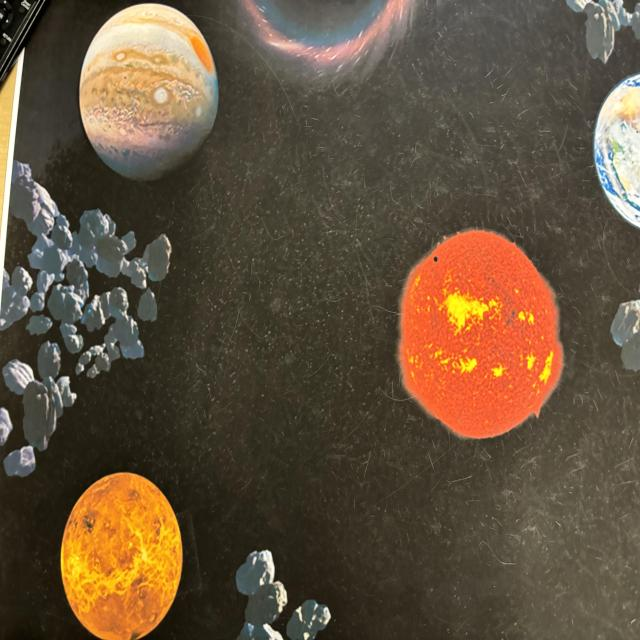Asteroids: (237, 545, 333, 640), (573, 4, 638, 56), (614, 299, 640, 368)
Black Hole: (243, 4, 401, 56)
Earth: (6, 205, 174, 433), (597, 70, 638, 240)
Jupiter: (79, 0, 218, 181)
Sun: (397, 229, 565, 440)
Venus: (62, 474, 182, 638)
